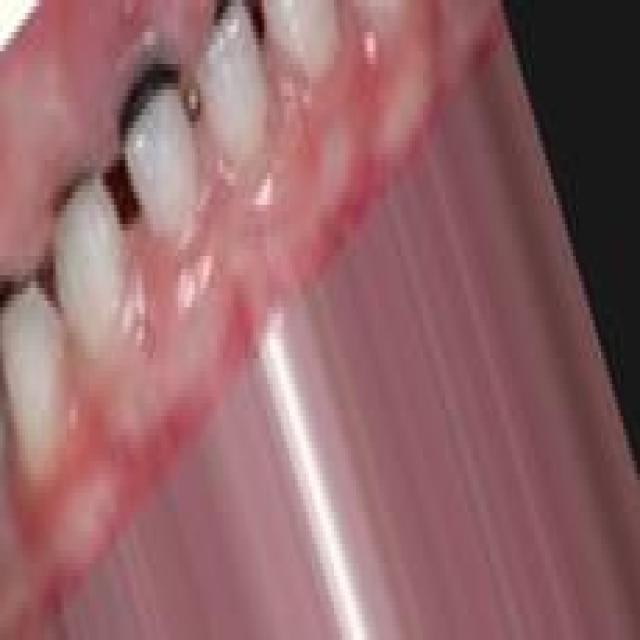caries: (112, 23, 184, 171), (44, 143, 114, 256)
